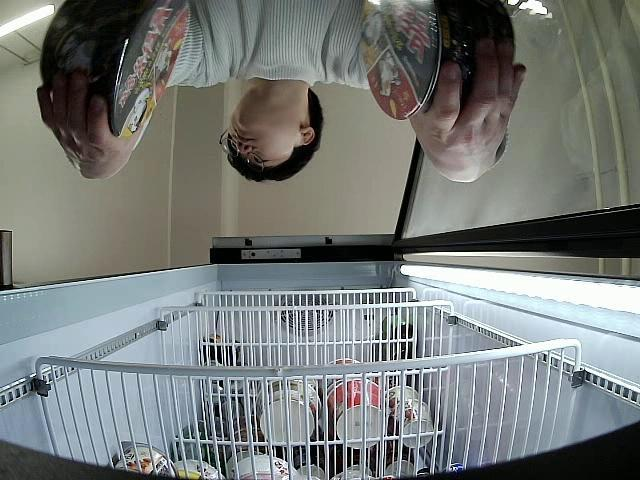07_buldak_L: (34, 0, 188, 140), (359, 0, 518, 121)
